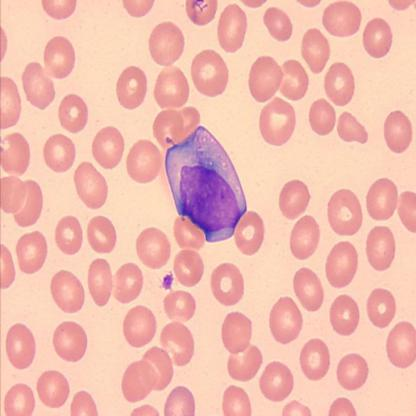Atypical lymphocyte: (164, 126, 247, 244)
